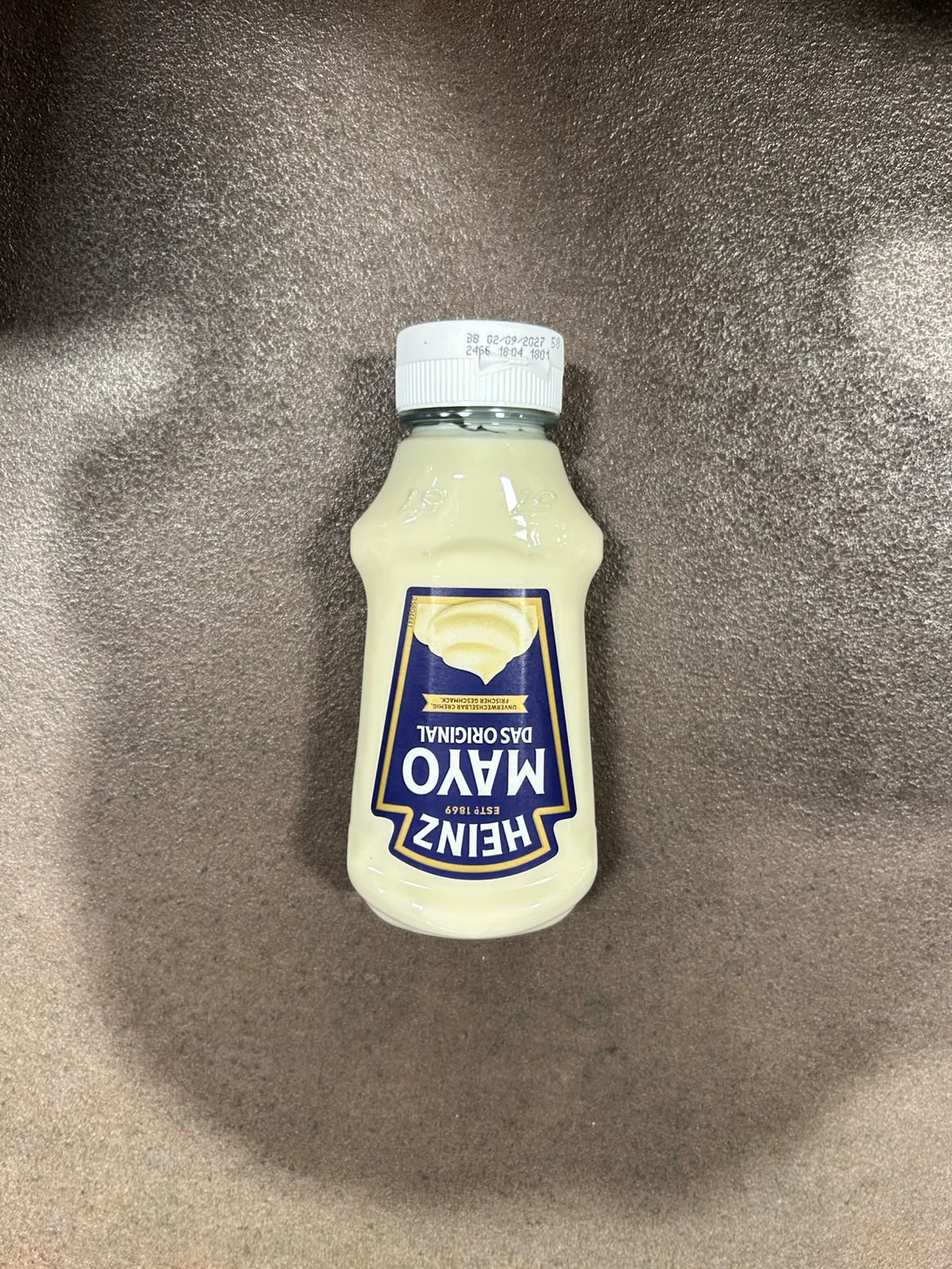bottle: (337, 306, 624, 940)
